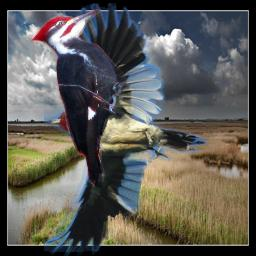Woodpecker: (44, 3, 207, 256), (31, 9, 131, 188)
